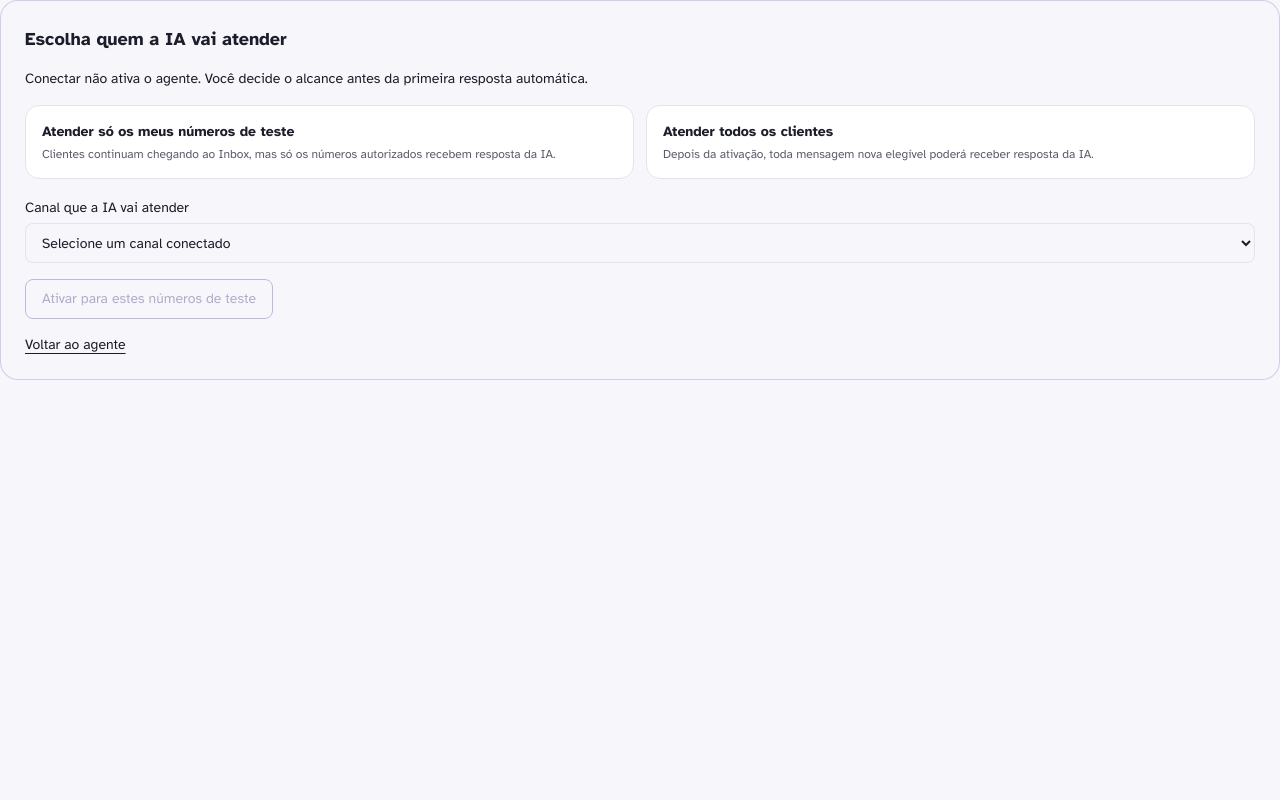
Scenario: conexão e seleção não ativam; último botão confirma mesma referência e erro não avança
Expected: the button "Ativar para estes números de teste" is disabled, [25,279,273,319]
Step 1. Select "Canal QA · Conectado" in the dropdown labelled "Canal que a IA vai atender" → {"x": 640, "y": 243}, box [25,223,1255,263]
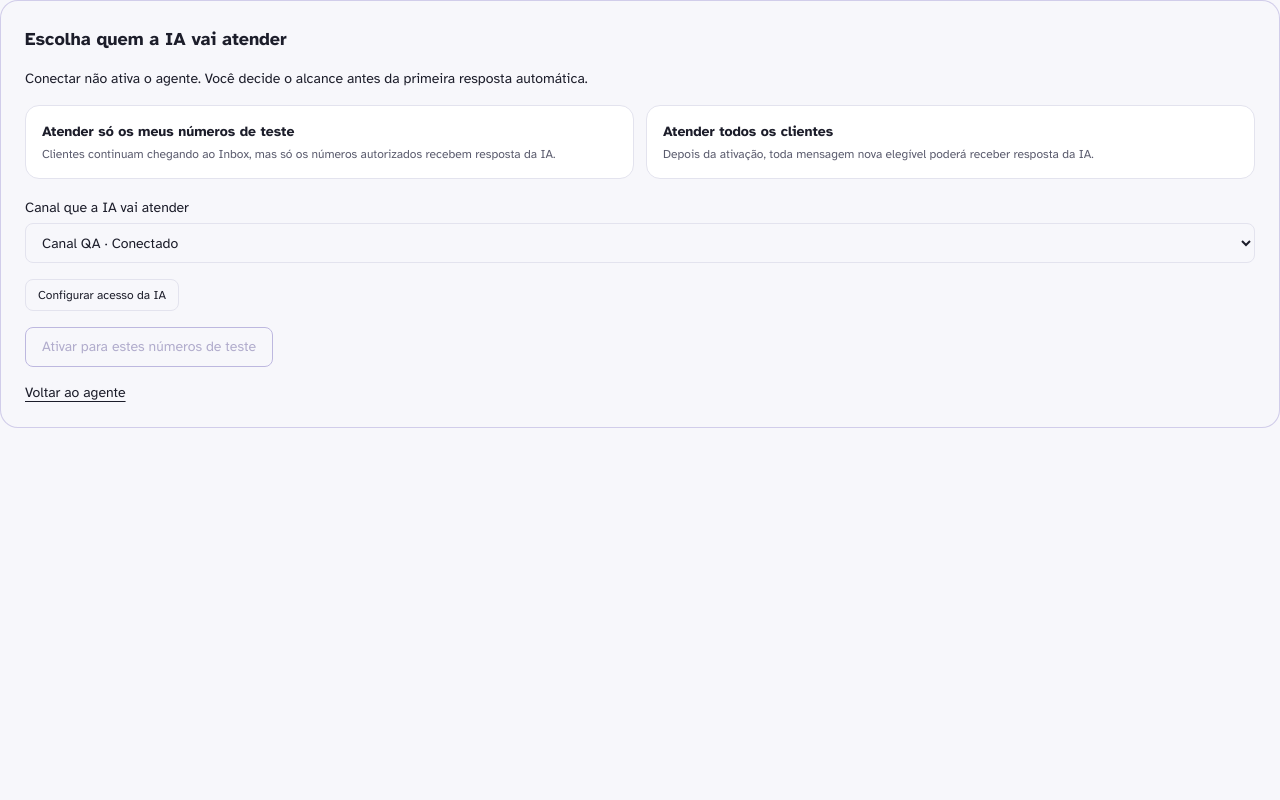
Step 2. Click the button "Atender só os meus números de teste" → {"x": 168, "y": 132}, box [25,105,634,179]
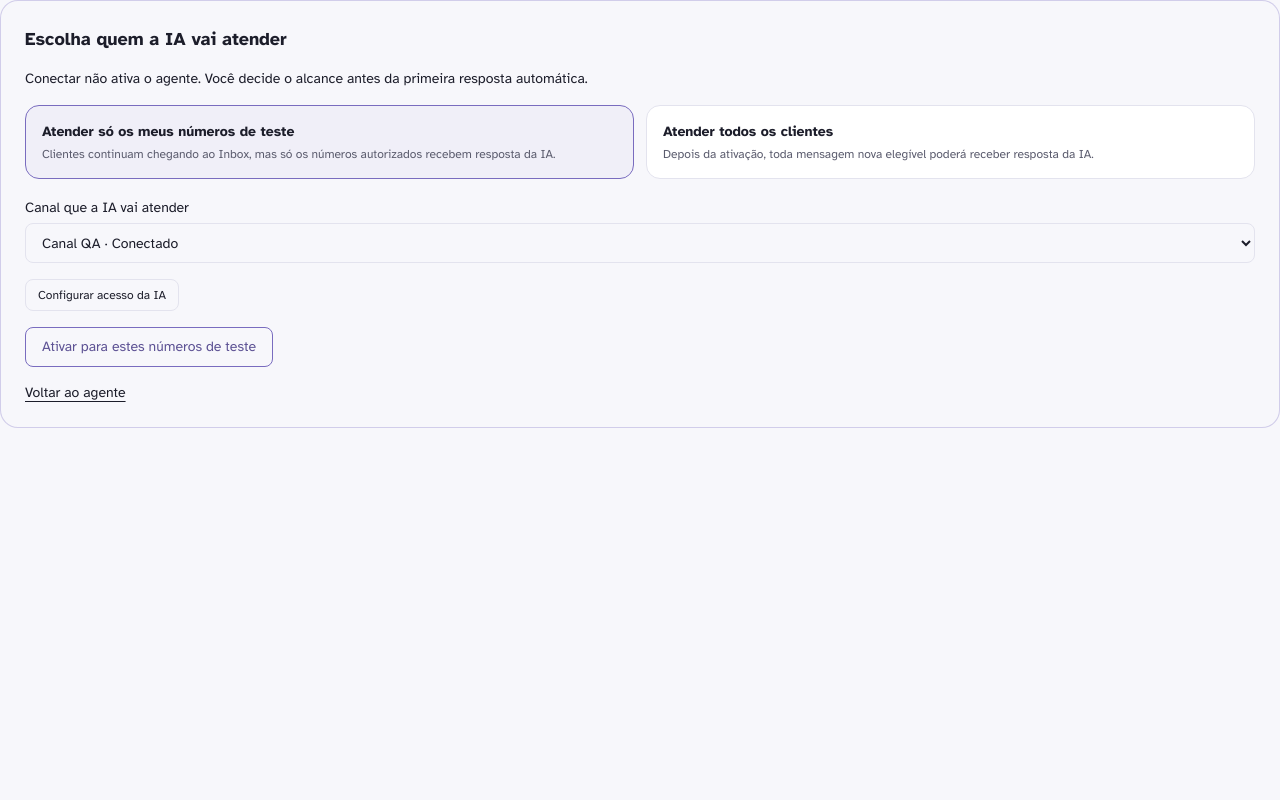
Result: the button "Ativar para estes números de teste" is enabled
Step 3. Click the button "Ativar para estes números de teste" → {"x": 149, "y": 347}, box [25,327,273,367]
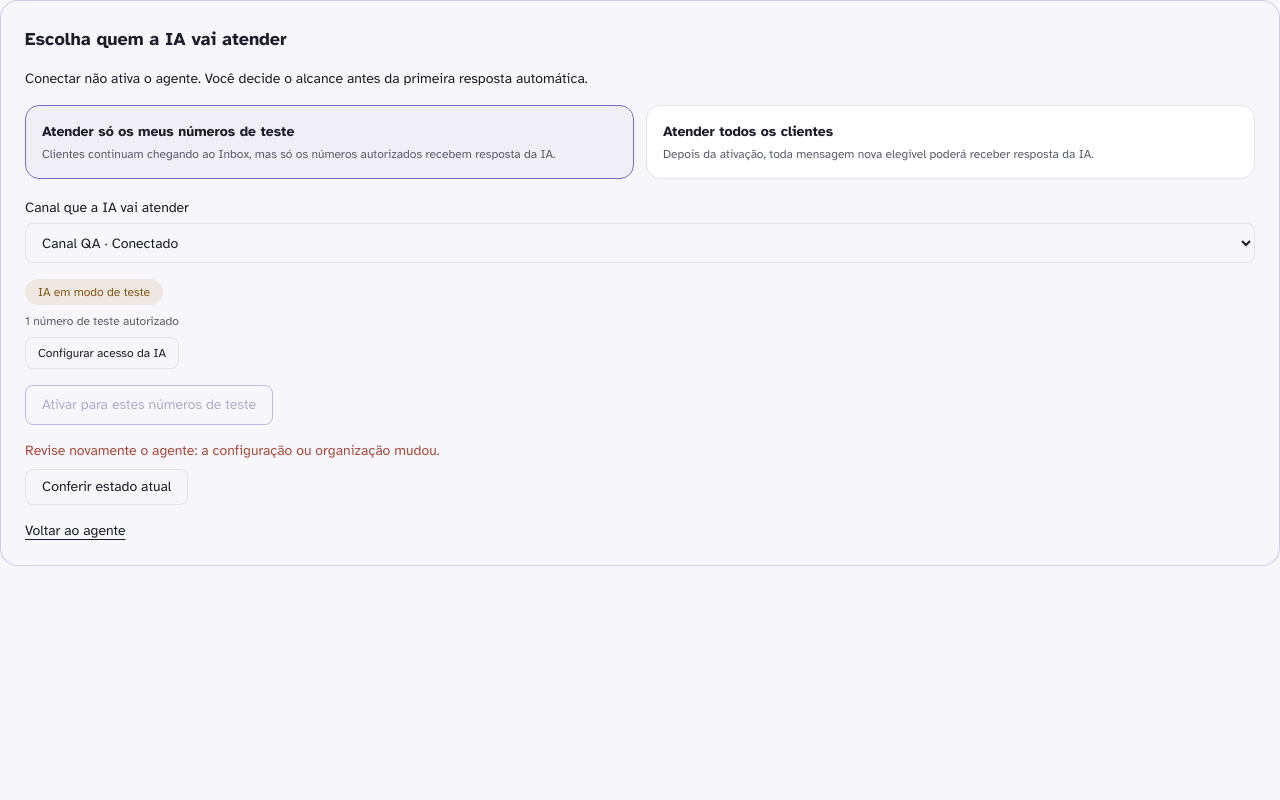
Result: the message shows "Revise novamente" at [25,442,440,459]
Result: the button "Ativar para estes números de teste" is disabled at [25,385,273,425]
